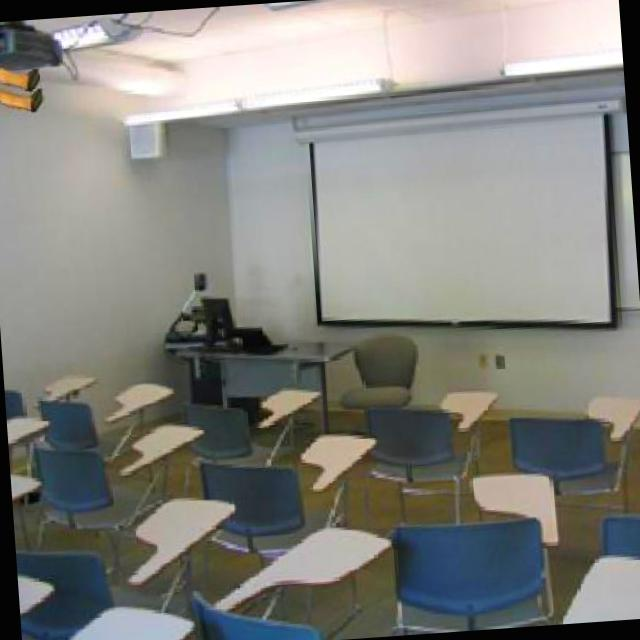Person: (0, 53, 45, 120)
